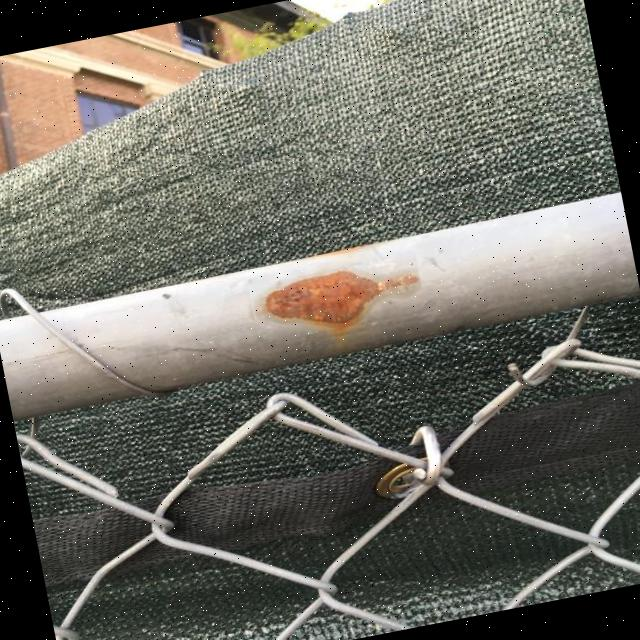Corrosion: (259, 254, 424, 341)
